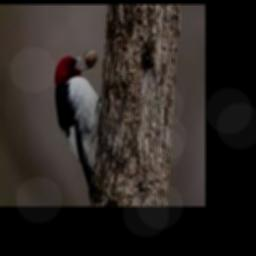Woodpecker: (54, 49, 101, 203)
